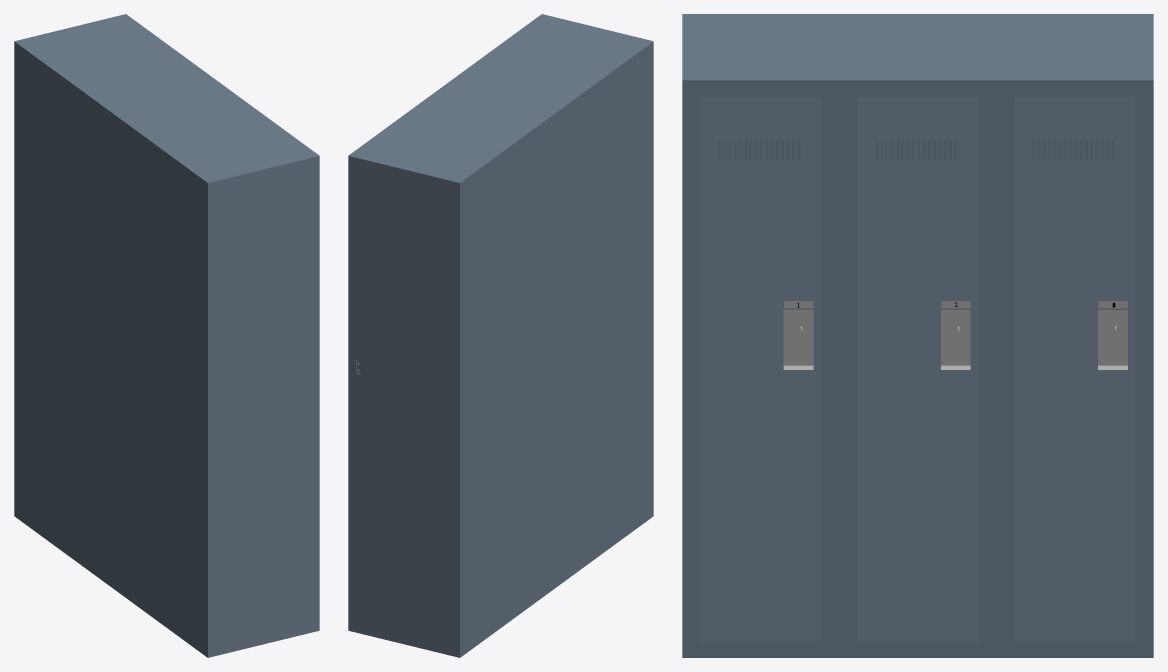
Rendered from lockers.fbx.
3 renders of one model, left to right at view 1: azimuth 30°, elevation 25°; view 2: azimuth 150°, elevation 25°; view 3: azimuth 270°, elevation 25°, orthographic. The views are drawn at different scales.
Visible parts, largest first — view 1: Model; view 2: Model; view 3: Model.
Part boxes in pixels (x1,y1,x2,y2): Model: [14, 14, 319, 657]; Model: [348, 14, 653, 657]; Model: [682, 14, 1153, 657].
Size of the model in its own units: 18.45 by 74.56 by 55.12.
